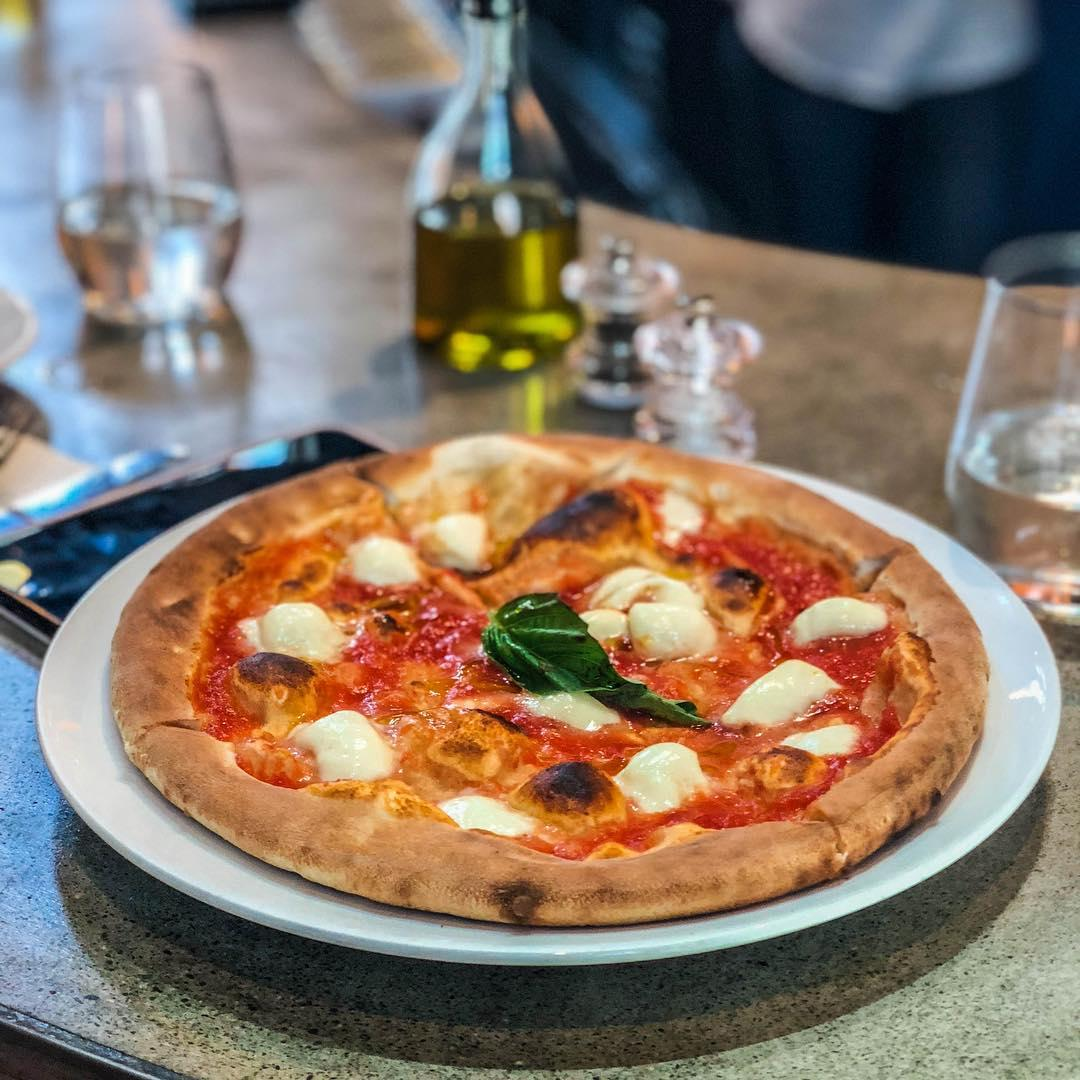Basil: (488, 593, 695, 712)
Cheese: (580, 568, 711, 654), (716, 653, 835, 734), (223, 593, 341, 674), (296, 693, 389, 784), (616, 746, 705, 812), (791, 596, 889, 646), (426, 505, 505, 564), (768, 718, 873, 761), (516, 693, 609, 740), (438, 778, 533, 824), (350, 533, 429, 588), (656, 483, 709, 543)
Pizza: (111, 425, 995, 920)
